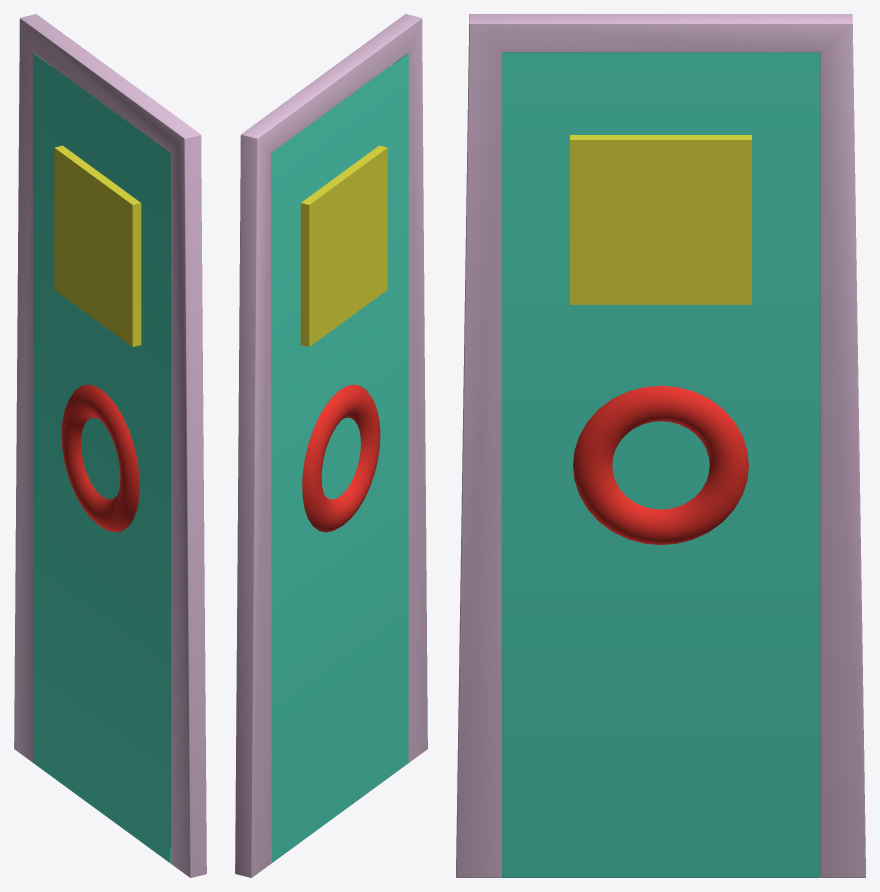
The model's file is porte.fbx.
The picture shows the model from 3 angles, left to right: view 1: azimuth 30°, elevation 25°; view 2: azimuth 150°, elevation 25°; view 3: azimuth 270°, elevation 25°; orthographic projection. The views are drawn at different scales.
Parts seen in each view (by area): view 1: cadre, porte, Cube, ToreSurf; view 2: cadre, porte, Cube, ToreSurf; view 3: cadre, porte, Cube, ToreSurf.
Boxes of the visible parts, x1,y1,x2,y2 form: cadre: (33, 53, 170, 863); porte: (14, 14, 206, 877); Cube: (54, 145, 141, 346); ToreSurf: (61, 384, 139, 532); cadre: (271, 53, 408, 863); porte: (235, 14, 427, 877); Cube: (300, 145, 387, 346); ToreSurf: (302, 384, 380, 532); cadre: (501, 52, 820, 877); porte: (456, 14, 865, 877); Cube: (570, 135, 751, 304); ToreSurf: (573, 385, 748, 544).
Bounding box in the file's own units: 10 × 207 × 89.99.
